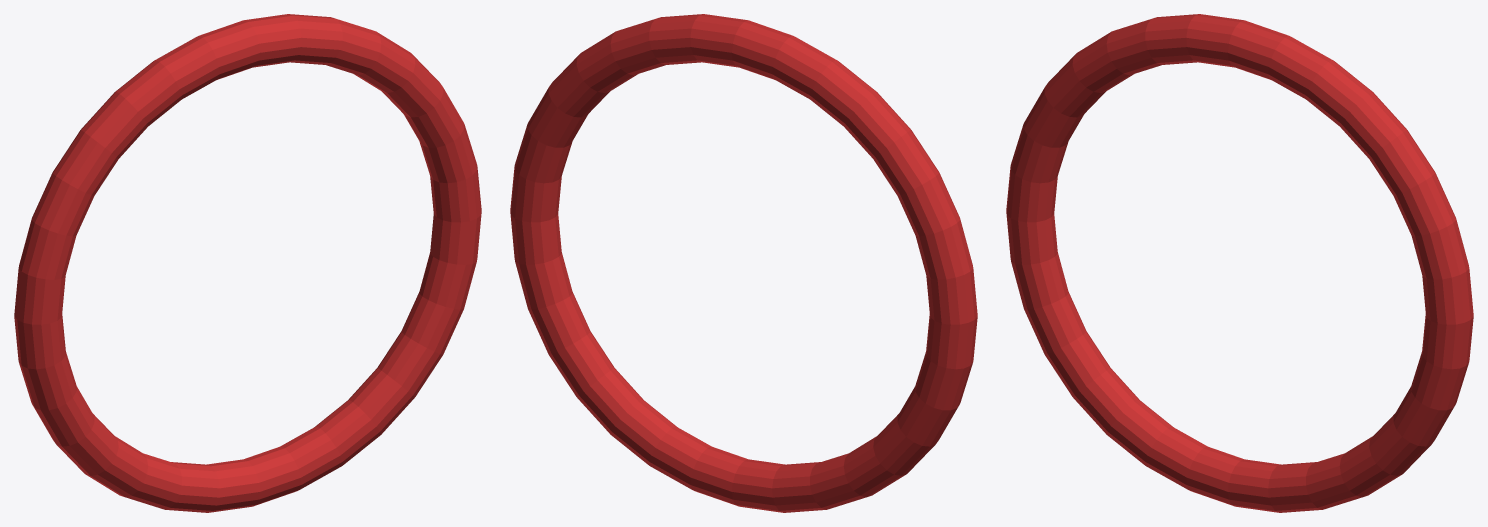
Rendered from handwheel_ring.obj.
The picture shows the model from 3 angles, left to right: view 1: azimuth 30°, elevation 25°; view 2: azimuth 150°, elevation 25°; view 3: azimuth 330°, elevation 25°; orthographic projection.
Parts seen in each view (by area): view 1: handwheel_ring; view 2: handwheel_ring; view 3: handwheel_ring.
Boxes of the visible parts, bbox=[...] form: handwheel_ring: bbox=[14, 14, 481, 512]; handwheel_ring: bbox=[510, 14, 977, 512]; handwheel_ring: bbox=[1006, 14, 1473, 512].
Size of the model in its own units: 0.22 by 0.22 by 0.02.
